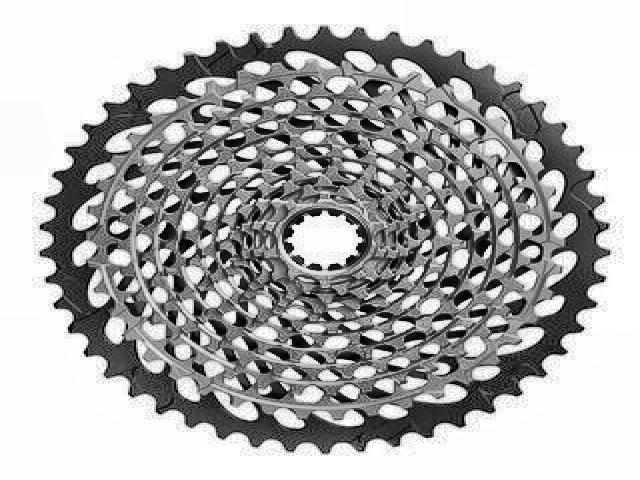cassette: (37, 24, 615, 454)
